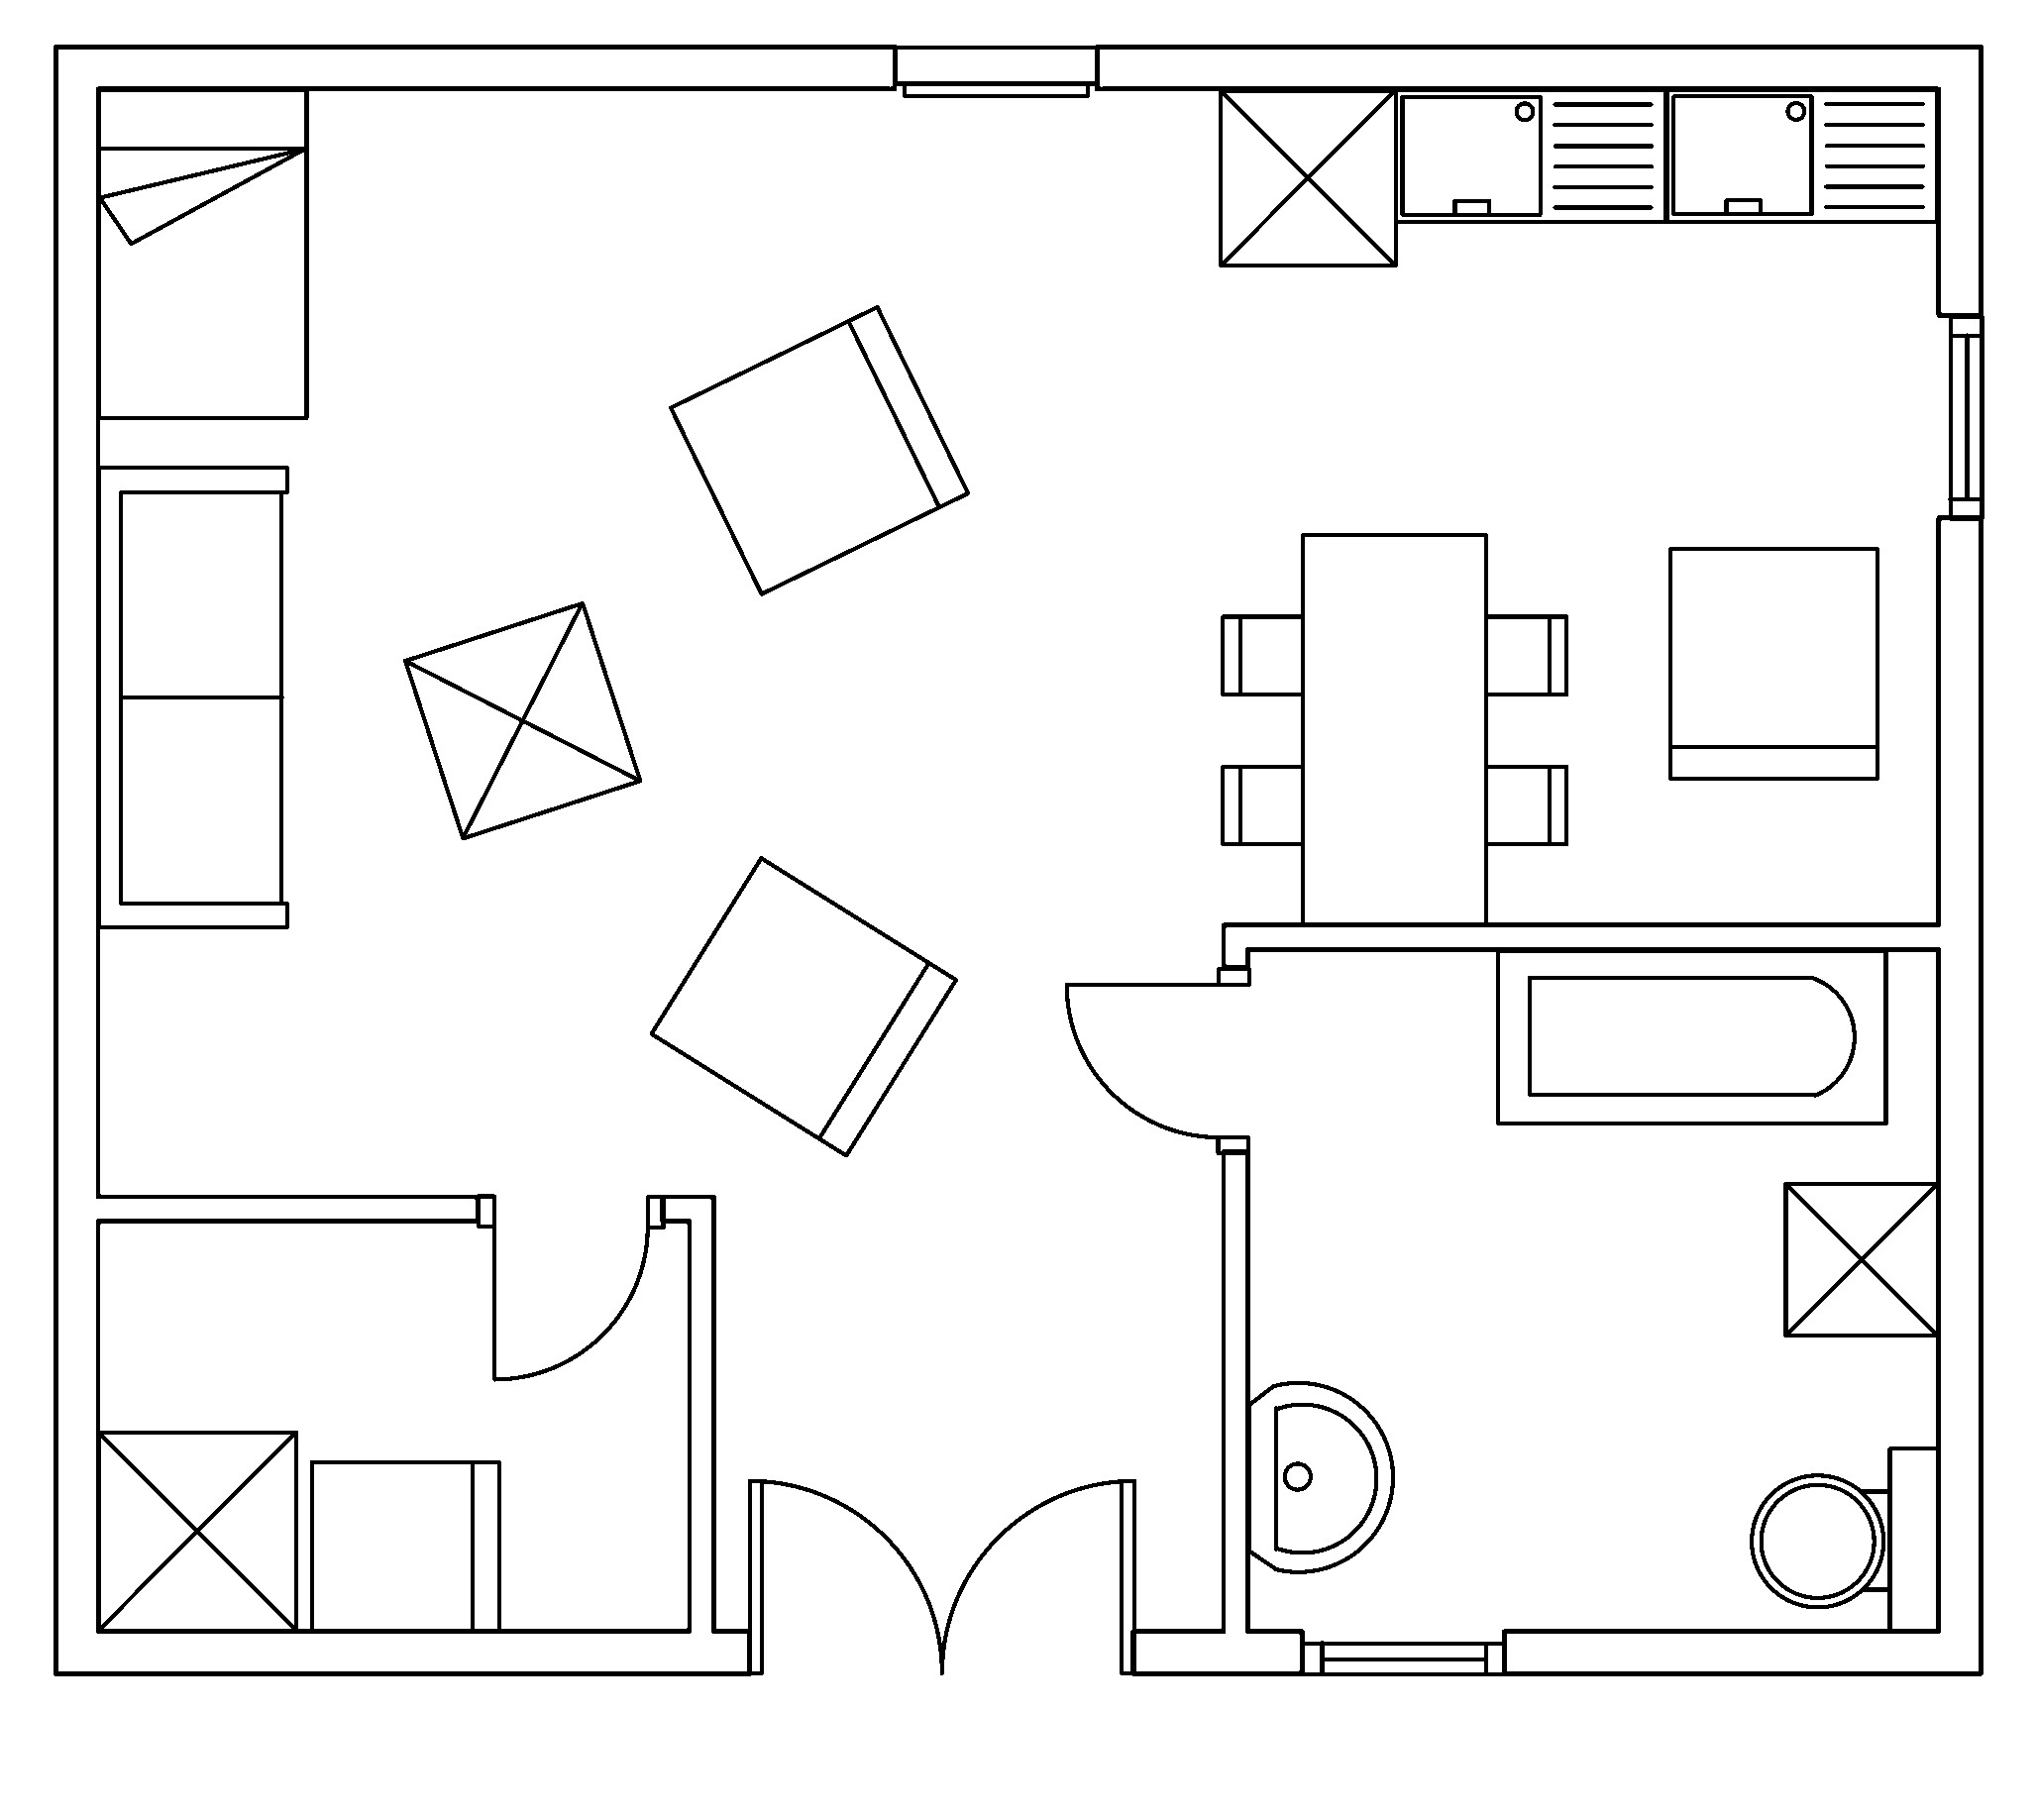bed: (95, 86, 309, 420)
coffee_table: (402, 599, 643, 840), (95, 1428, 299, 1632), (1217, 86, 1398, 267), (1781, 1181, 1940, 1337)
dining_table: (1219, 531, 1568, 926)
large_sink: (1749, 1444, 1940, 1632)
large_sofa: (95, 464, 290, 929)
sink: (1663, 86, 1940, 223), (1393, 86, 1668, 223)
small_sink: (1245, 1381, 1394, 1572)
small_sofa: (646, 854, 959, 1158), (667, 304, 969, 597), (1666, 545, 1879, 780), (307, 1458, 500, 1632)
tub: (1494, 947, 1888, 1126)
